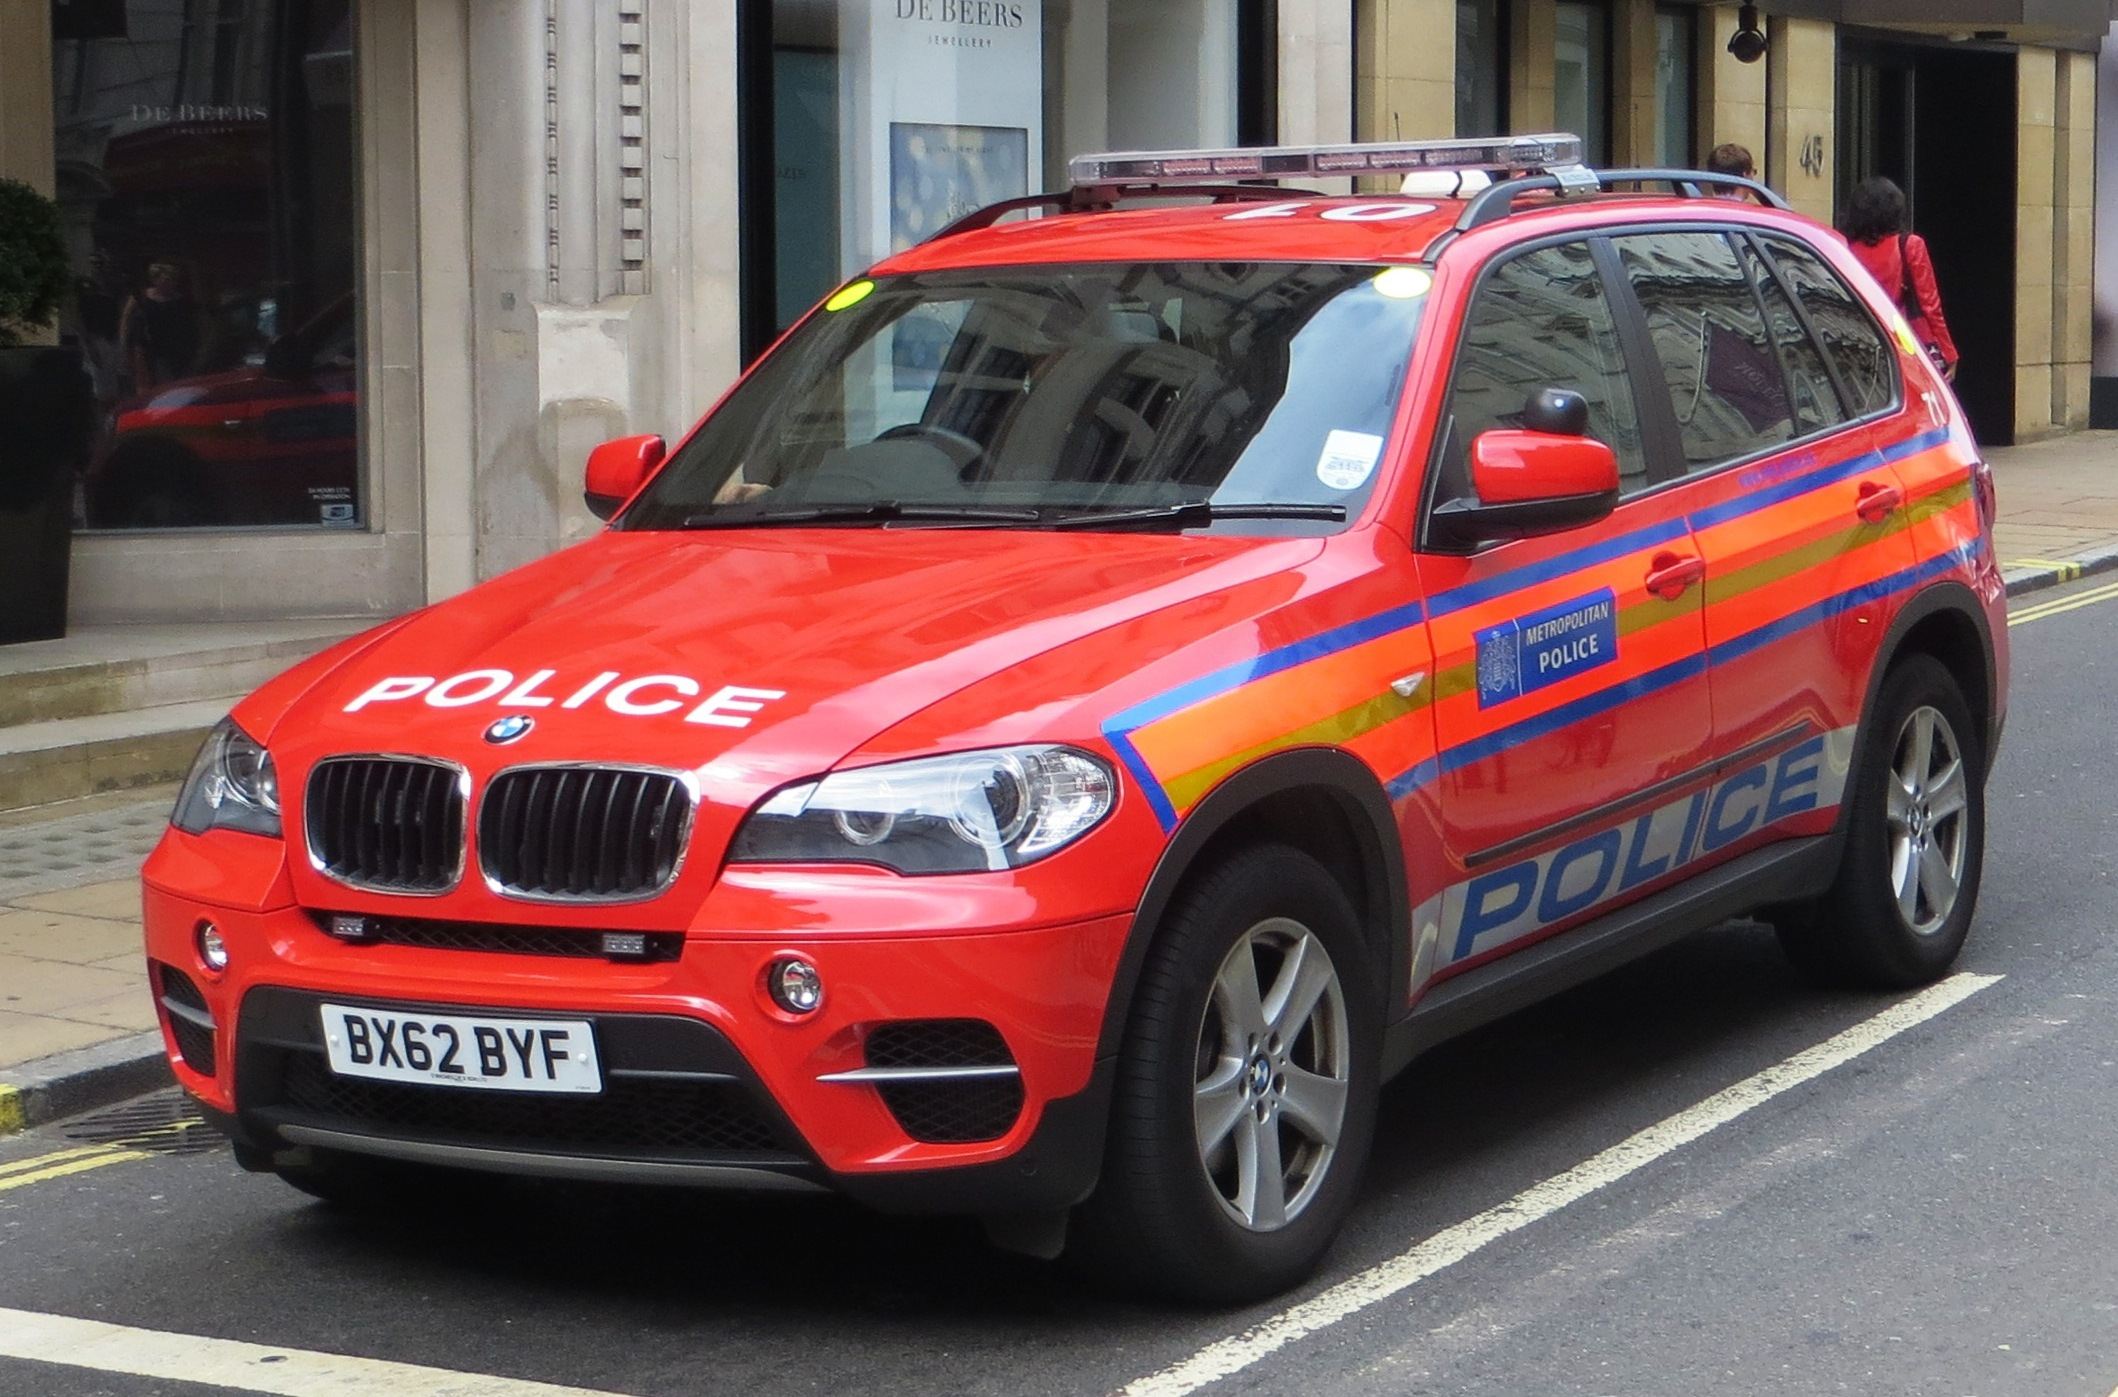special: (146, 140, 2003, 1317)
